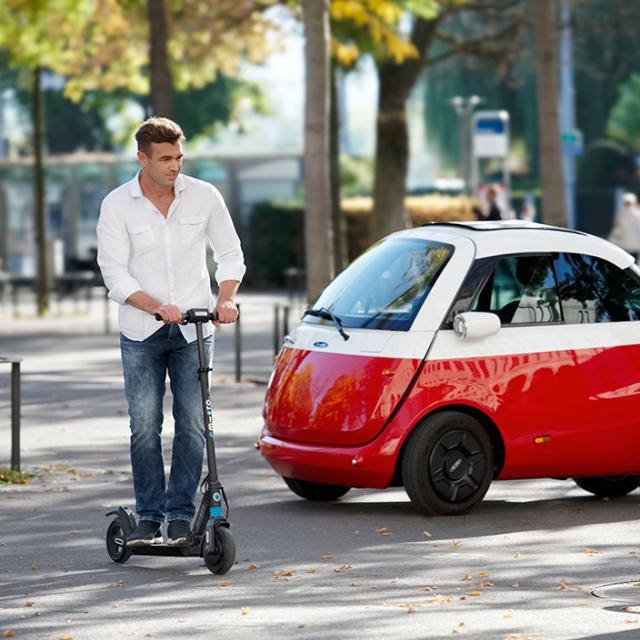non-helmet: (58, 106, 258, 570)
